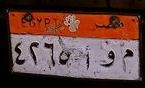2: (28, 41, 41, 64)
4: (13, 40, 25, 65)
5: (57, 49, 73, 66)
6: (44, 40, 56, 68)
alif: (83, 45, 91, 68)
meem: (120, 47, 133, 67)
waw: (100, 49, 117, 68)
